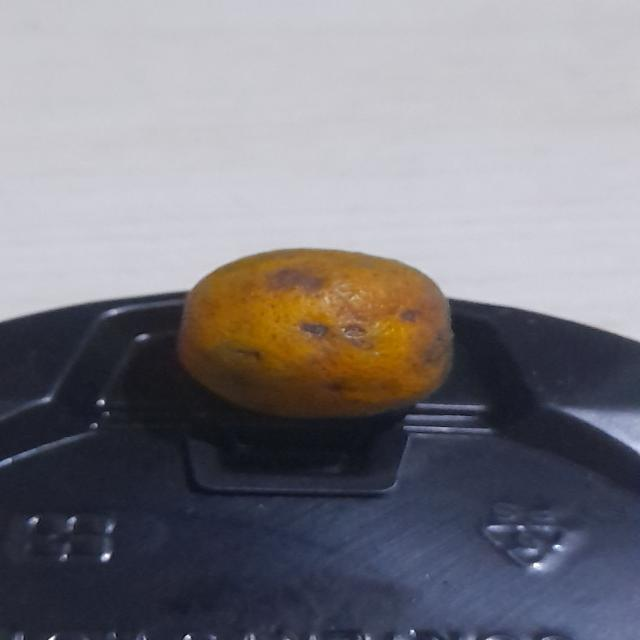black spot: (178, 246, 460, 422)
